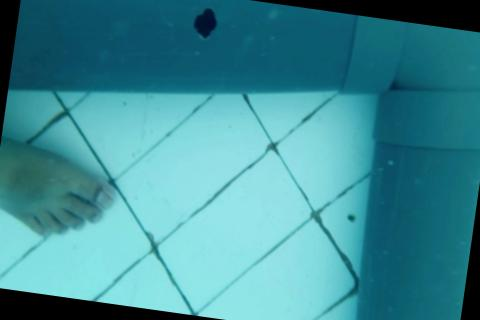kebocoran: (190, 5, 220, 42)
